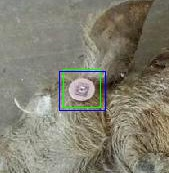text: (63, 69, 100, 107)
